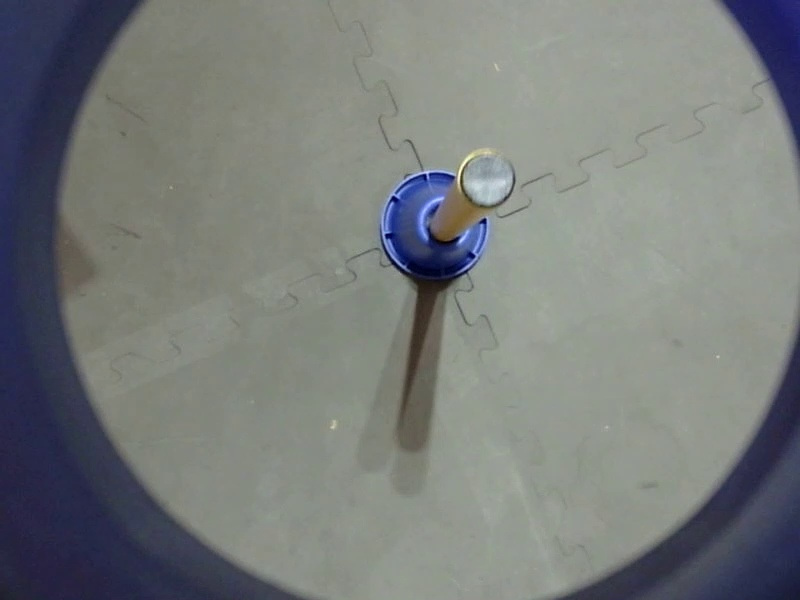tip: (456, 145, 522, 208)
